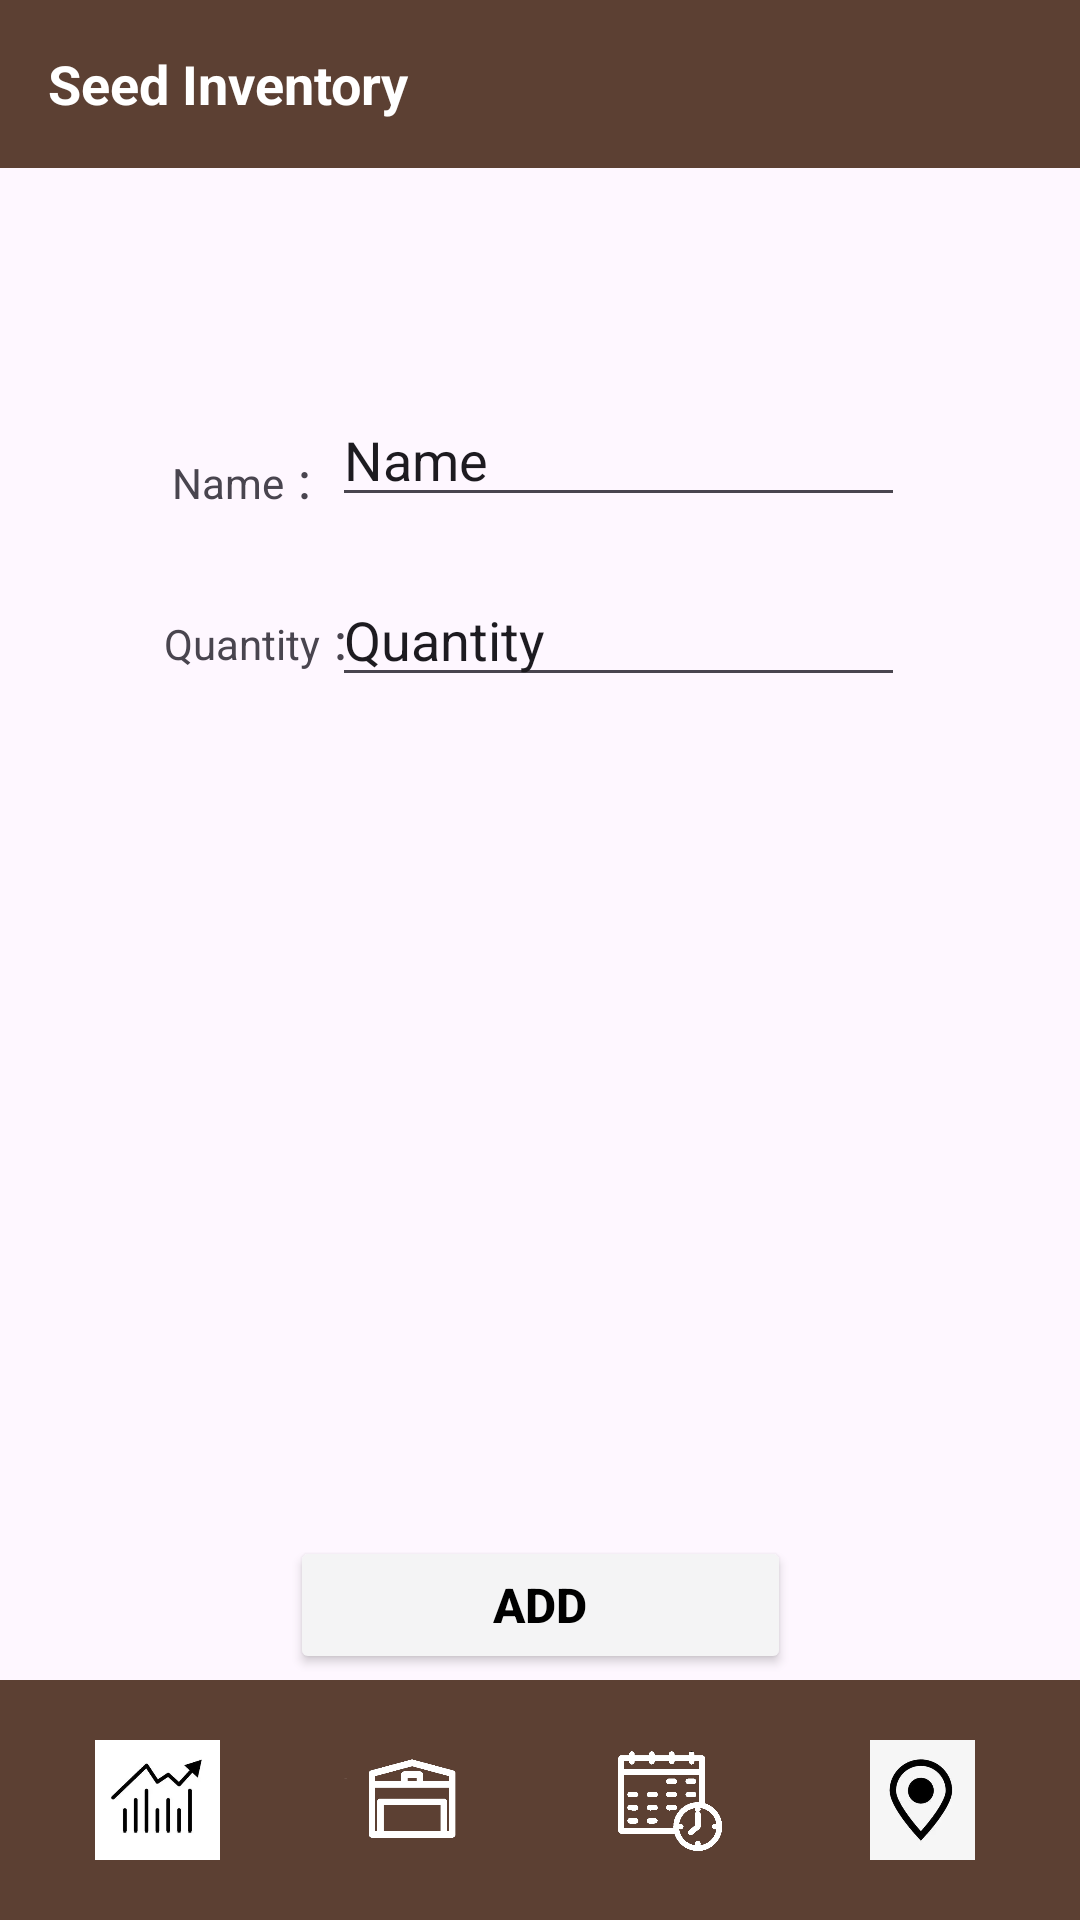

Locate icon controls on the screen. Image size 1080×1920, boxes as [x1,y1,x2,y2].
Inventory: [369,1759,456,1838]
map: [870,1740,975,1860]
task: [618,1751,722,1851]
